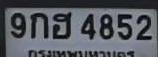2: (136, 14, 152, 41)
4: (80, 13, 96, 40)
5: (117, 13, 133, 40)
8: (100, 13, 114, 40)
9: (10, 12, 25, 37)
A01: (30, 12, 49, 39)
A44: (52, 11, 72, 39)
